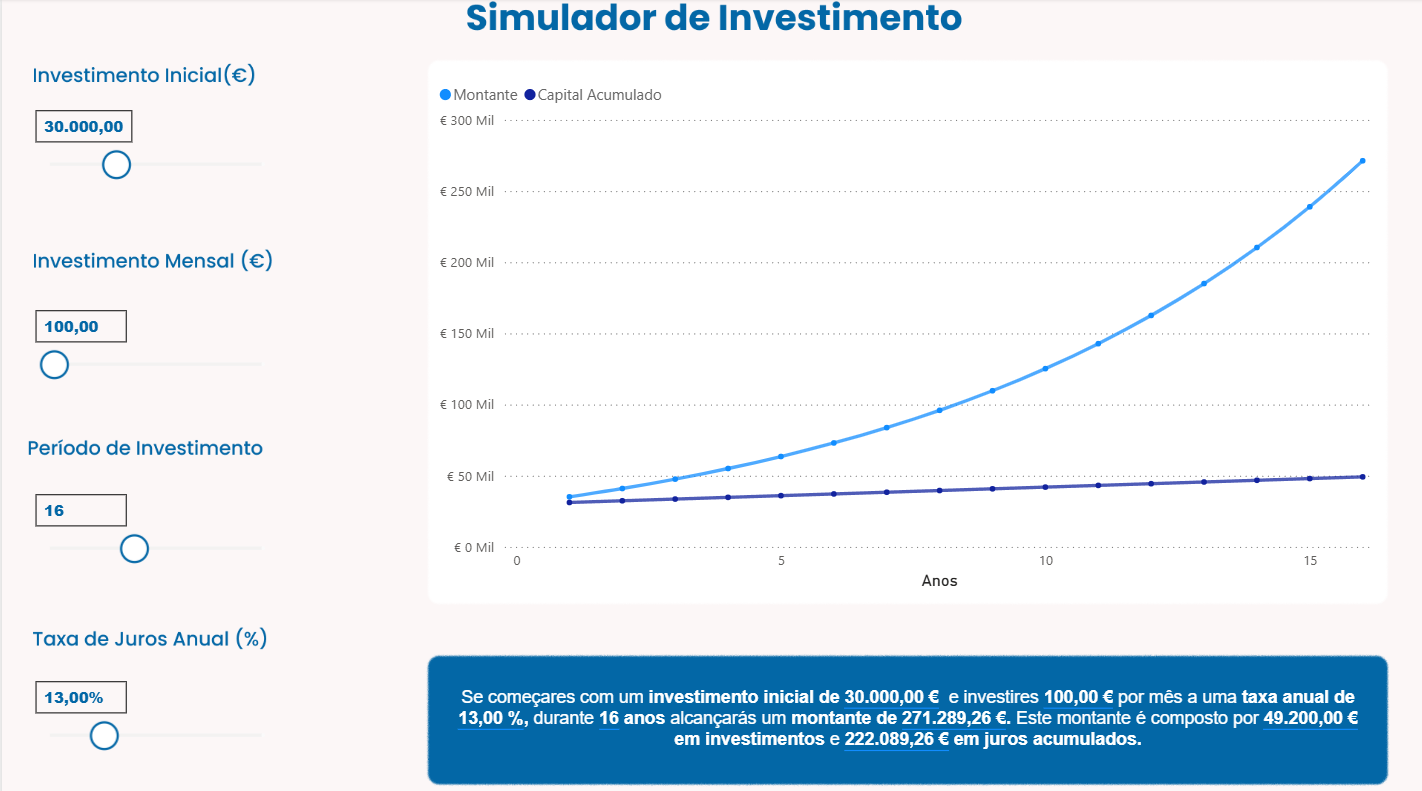

Layout of this report page (visuals, bound fields, positions):
{"tool":"powerbi","page":{"name":"Home","canvas":[1280,720],"ordinal":0},"visuals":[{"type":"slicer","fields":{"Values":["Juros.Juros"]},"box":[17.1,603.7,239.9,89.7],"z":0},{"type":"slicer","fields":{"Values":["Valor Inicial.Valor Inicial"]},"box":[17.1,90.7,239.9,89.7],"z":1000},{"type":"slicer","fields":{"Values":["Aporte Mensal .Aporte Mensal "]},"box":[17.1,270.1,239.9,89.7],"z":2000},{"type":"slicer","fields":{"Values":["Paramentro Tempo.Paramentro Tempo"]},"box":[17.1,435.4,239.9,89.7],"z":3000},{"type":"lineChart","fields":{"Y":["Medidas.Valor com Juros","Medidas.Valor Investido"],"Category":["Tempo.Value"]},"box":[387,66.5,849.6,469.7],"z":6000},{"type":"textbox","box":[402.1,613.8,822.4,79.6],"z":7001}]}

Visuals, with their boxes in screenshot pixels (x1, y1, x2, y2), scaled from the page's 1280x720 canvas onto the 1422x791 screenshot:
slicer - Juros.Juros: Rect(19, 663, 286, 762)
slicer - Valor Inicial.Valor Inicial: Rect(19, 100, 286, 198)
slicer - Aporte Mensal .Aporte Mensal : Rect(19, 297, 286, 395)
slicer - Paramentro Tempo.Paramentro Tempo: Rect(19, 478, 286, 577)
lineChart - Medidas.Valor com Juros x Medidas.Valor Investido: Rect(430, 73, 1374, 589)
textbox: Rect(447, 674, 1360, 762)
